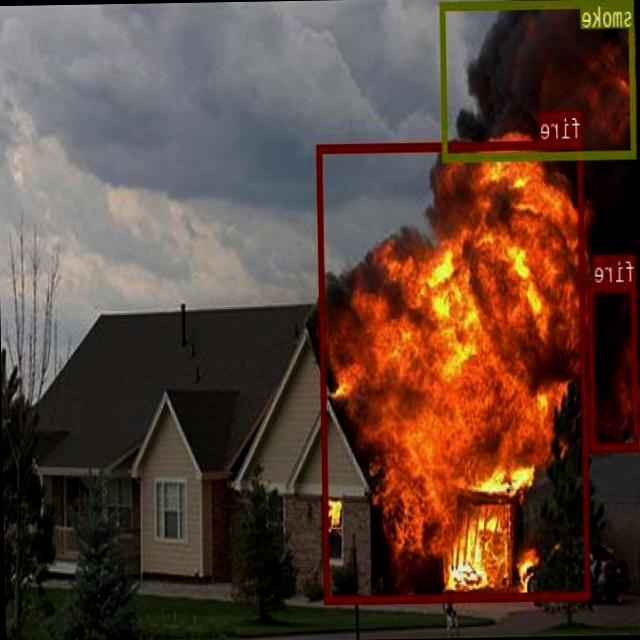fire: (317, 139, 590, 603), (589, 281, 640, 449)
smoke: (440, 0, 637, 159)
